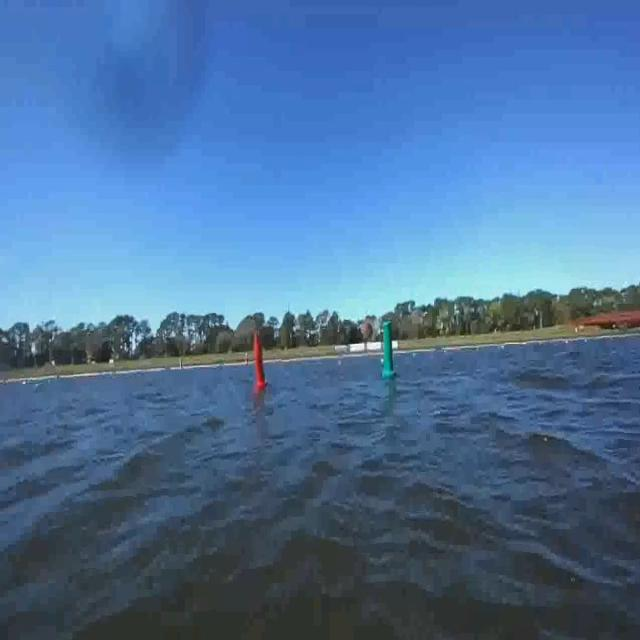green-column-buoy: (380, 320, 398, 378)
red-column-buoy: (254, 329, 270, 388)
